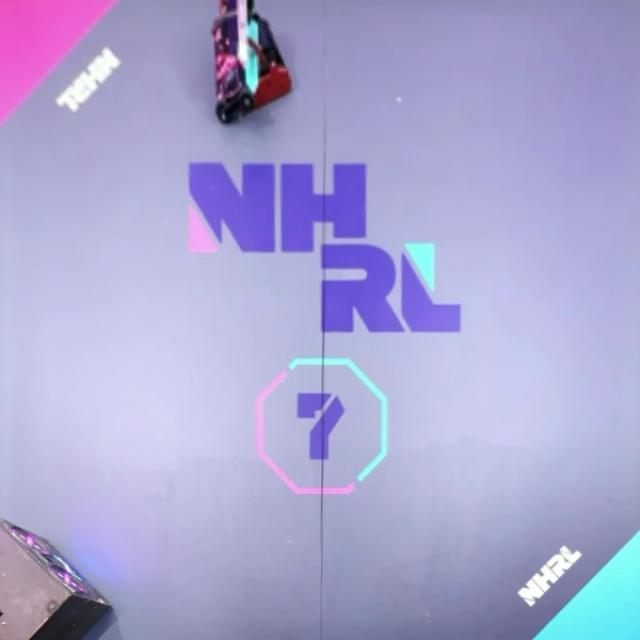housebot: (0, 518, 113, 639)
robot: (213, 15, 293, 111), (211, 0, 261, 124)
